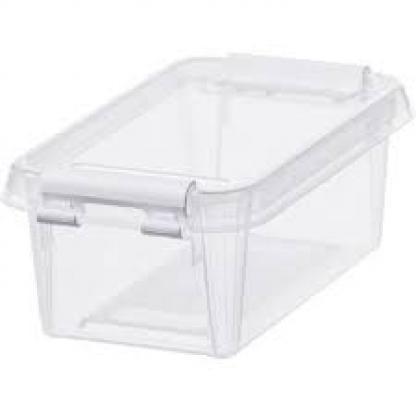plastic_box: (2, 22, 414, 368)
